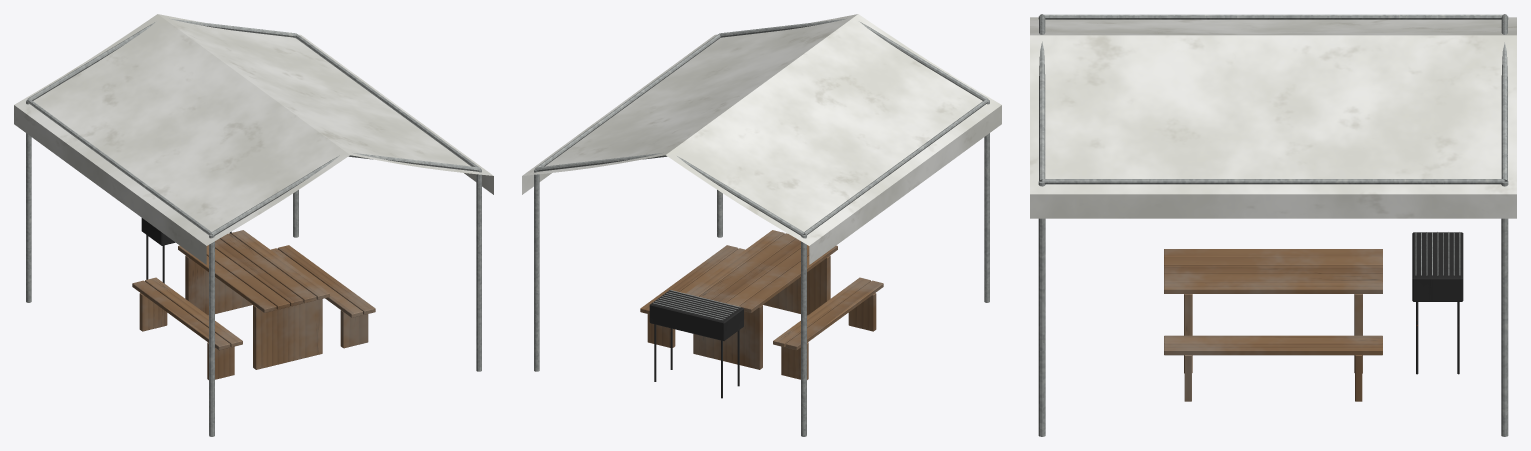
File: BBQShelter.gltf
3 renders of one model, left to right at view 1: azimuth 30°, elevation 25°; view 2: azimuth 150°, elevation 25°; view 3: azimuth 270°, elevation 25°, orthographic. The views are drawn at different scales.
Visible parts, largest first — view 1: BBQShelter; view 2: BBQShelter; view 3: BBQShelter.
Part boxes in pixels (left/top/right/bottom): BBQShelter: left=14, top=14, right=493, bottom=436; BBQShelter: left=522, top=14, right=1001, bottom=436; BBQShelter: left=1030, top=14, right=1516, bottom=436.
Size of the model in its own units: 3.44 by 2.88 by 4.
Materials: 4 (4 with a texture image).
